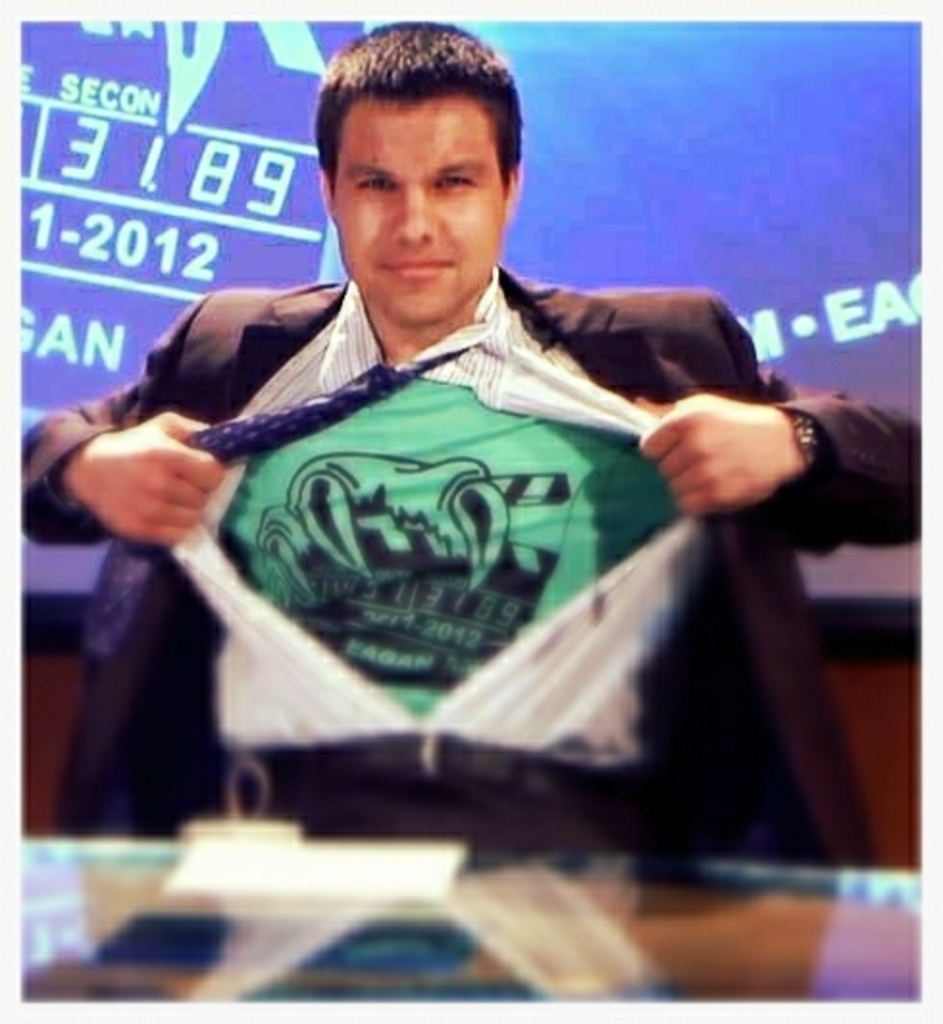Human_hand: (632, 390, 809, 521), (69, 411, 224, 543)
